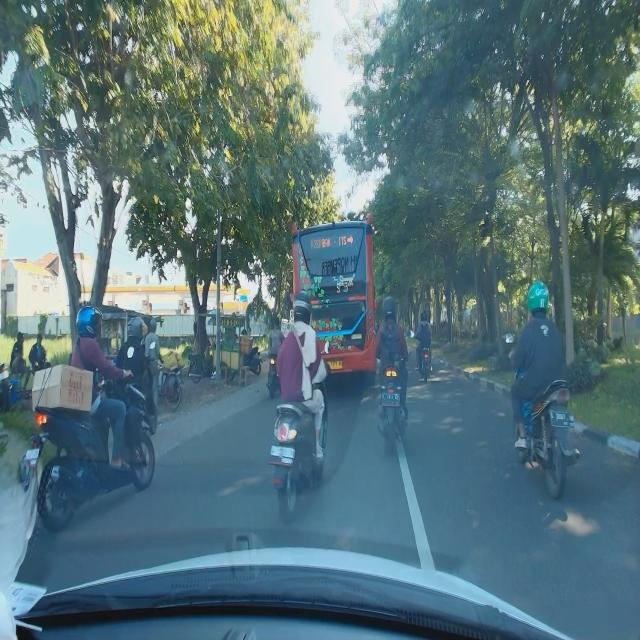bus: (291, 214, 377, 380)
license-plate: (327, 360, 343, 370)
